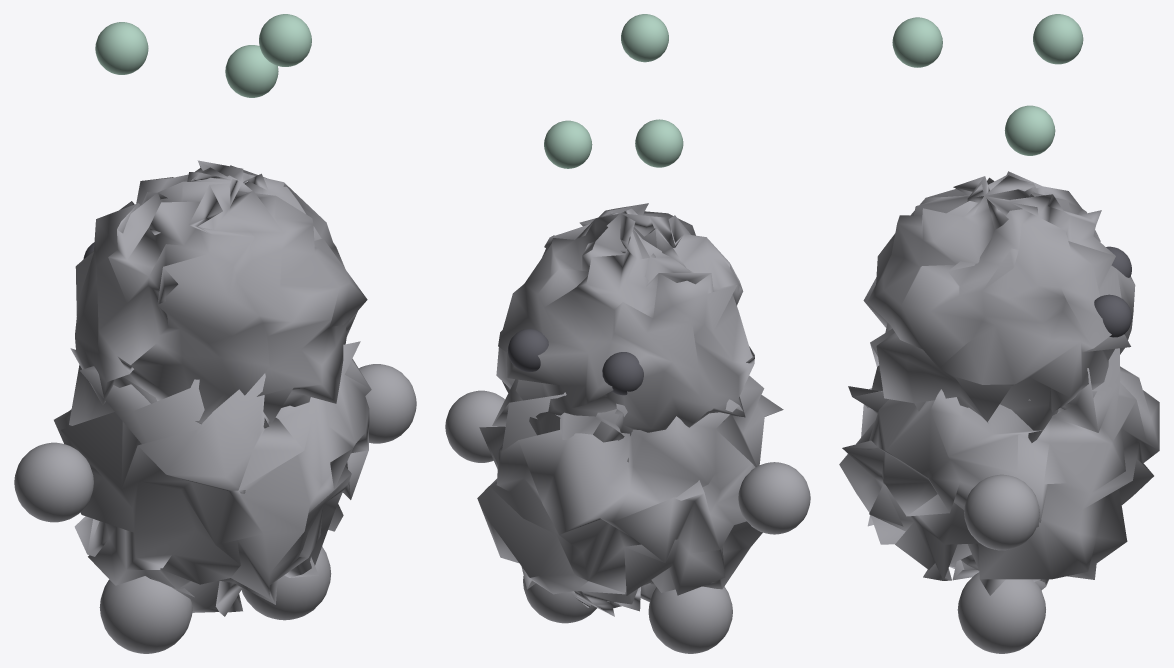
File: clay_cauldron_face.glb
The picture shows the model from 3 angles, left to right: view 1: azimuth 30°, elevation 25°; view 2: azimuth 150°, elevation 25°; view 3: azimuth 270°, elevation 25°; orthographic projection. The views are drawn at different scales.
Visible parts, largest first — view 1: bubble.002; view 2: bubble.002; view 3: bubble.002.
Part boxes in pixels (x1,y1,x2,y2): bubble.002: (14,14,416,653); bubble.002: (445,14,810,653); bubble.002: (839,14,1159,653).
Bounding box in the file's own units: 1.53 × 2.4 × 1.14.
